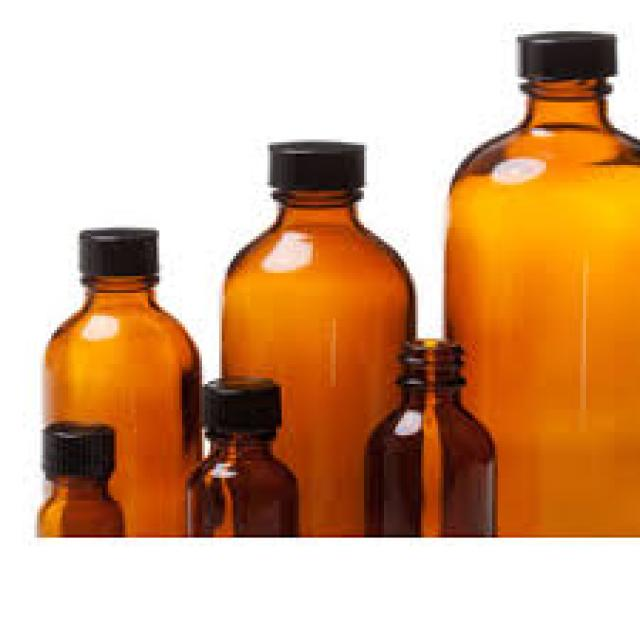glass: (444, 77, 637, 532), (222, 188, 412, 532), (43, 273, 199, 535), (364, 338, 492, 532), (185, 430, 296, 535), (34, 475, 120, 535)
plastic: (515, 26, 614, 80), (267, 136, 364, 185), (199, 373, 279, 432), (77, 225, 156, 276), (43, 421, 111, 472)
